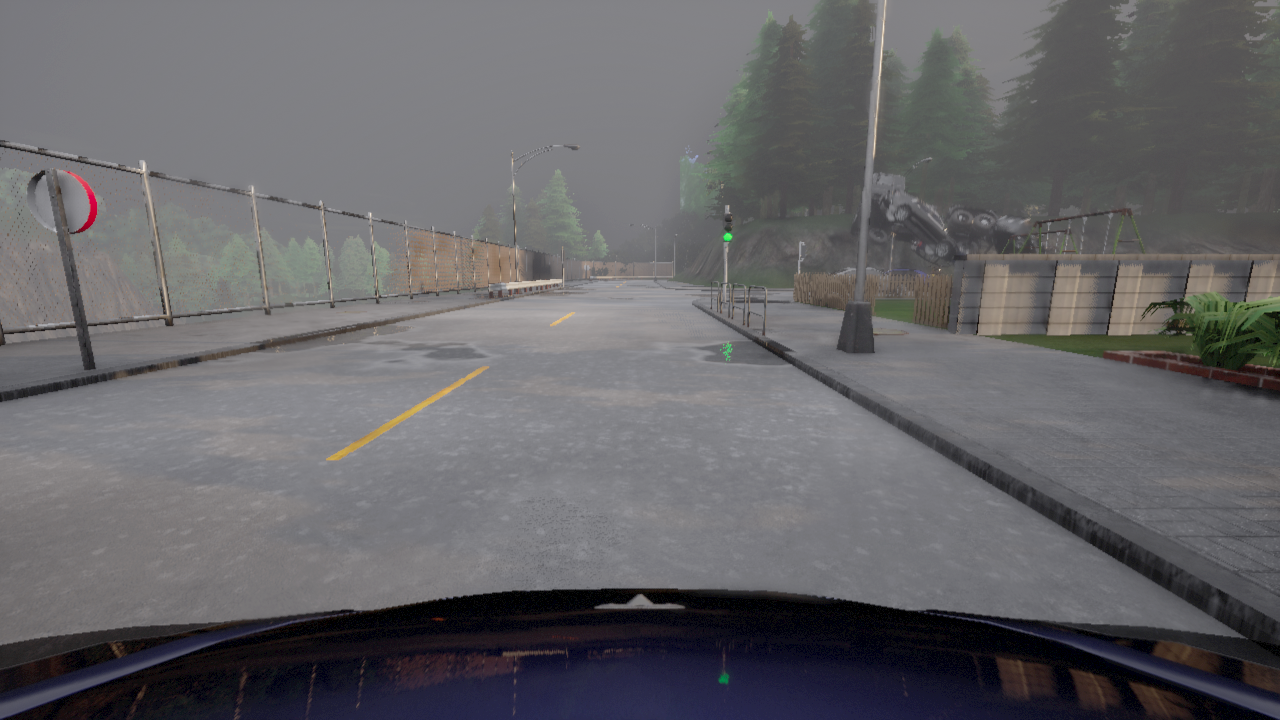cyclist: (0, 588, 1279, 719), (851, 172, 1001, 254), (883, 189, 958, 261), (830, 264, 911, 294), (986, 215, 1046, 254), (911, 236, 980, 267), (884, 269, 929, 279), (932, 266, 940, 276)
